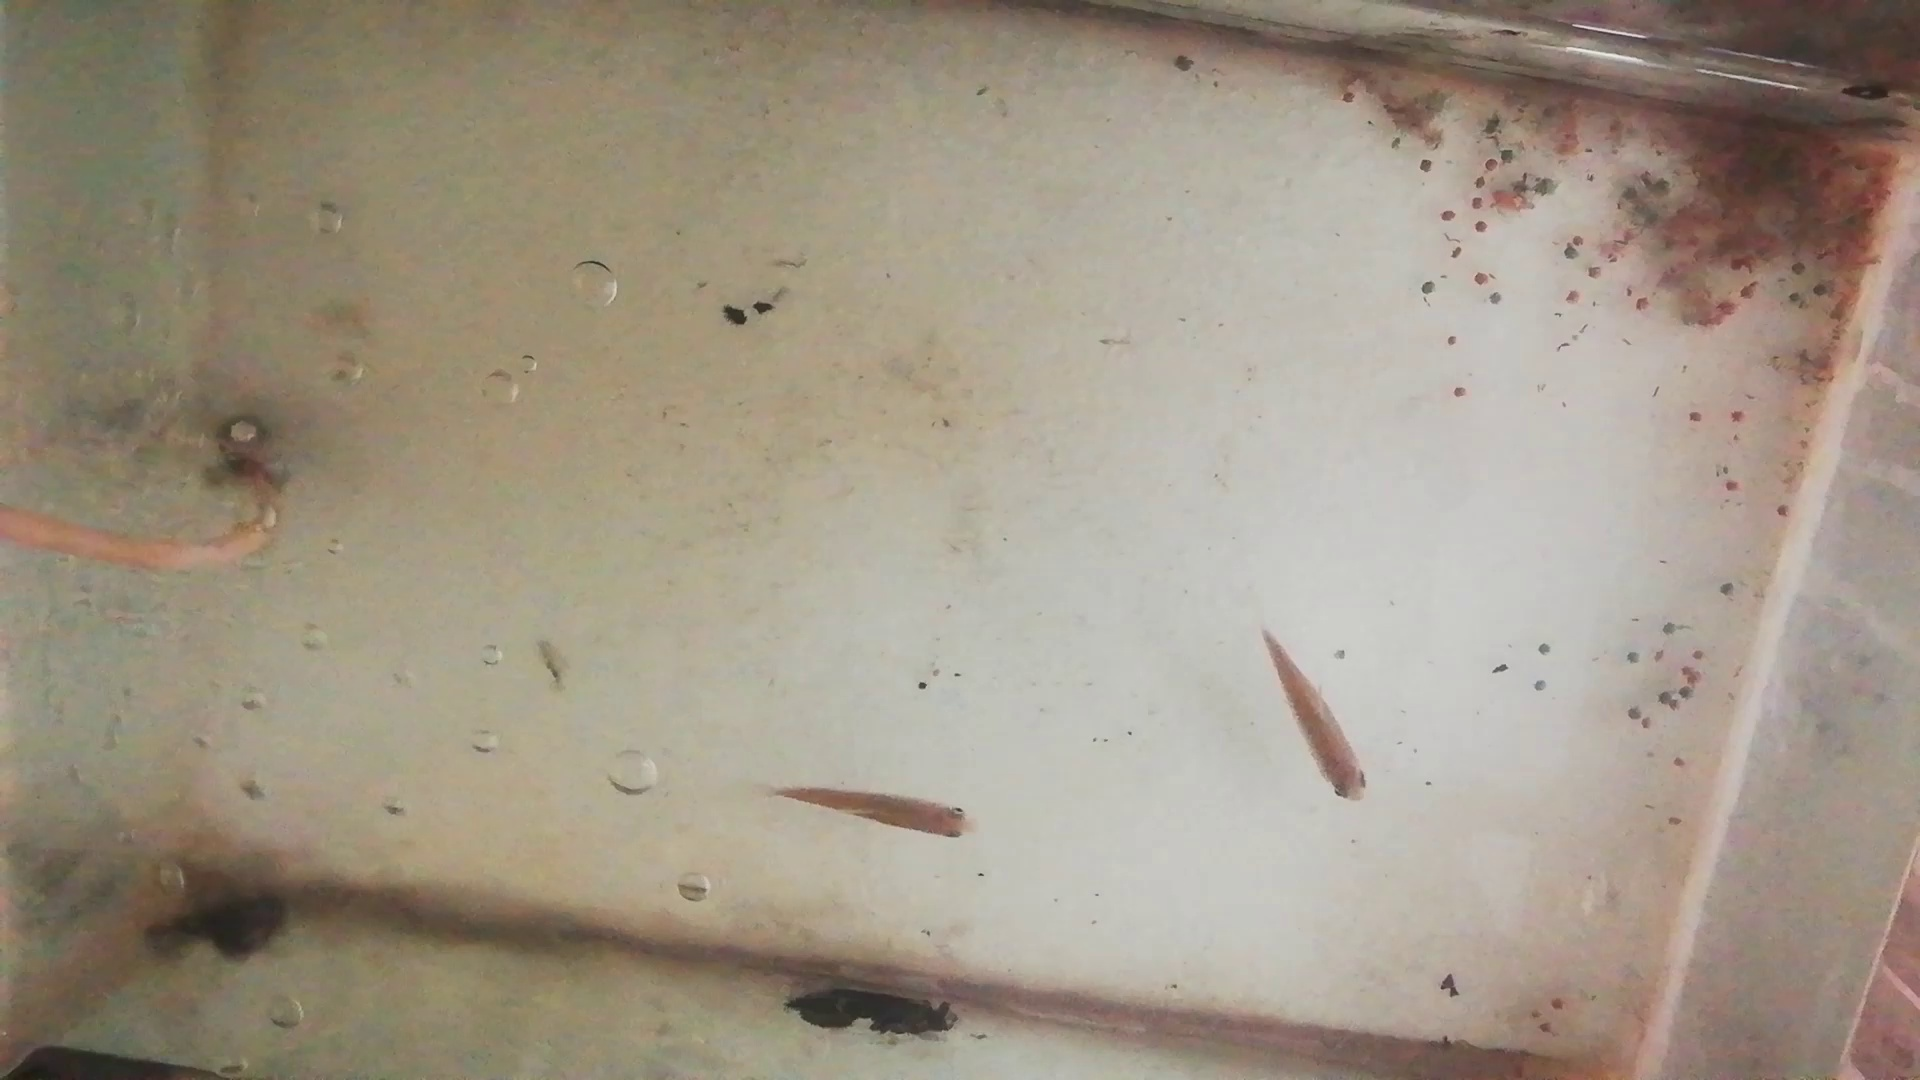fish: (1263, 629, 1371, 806), (775, 779, 980, 847)
